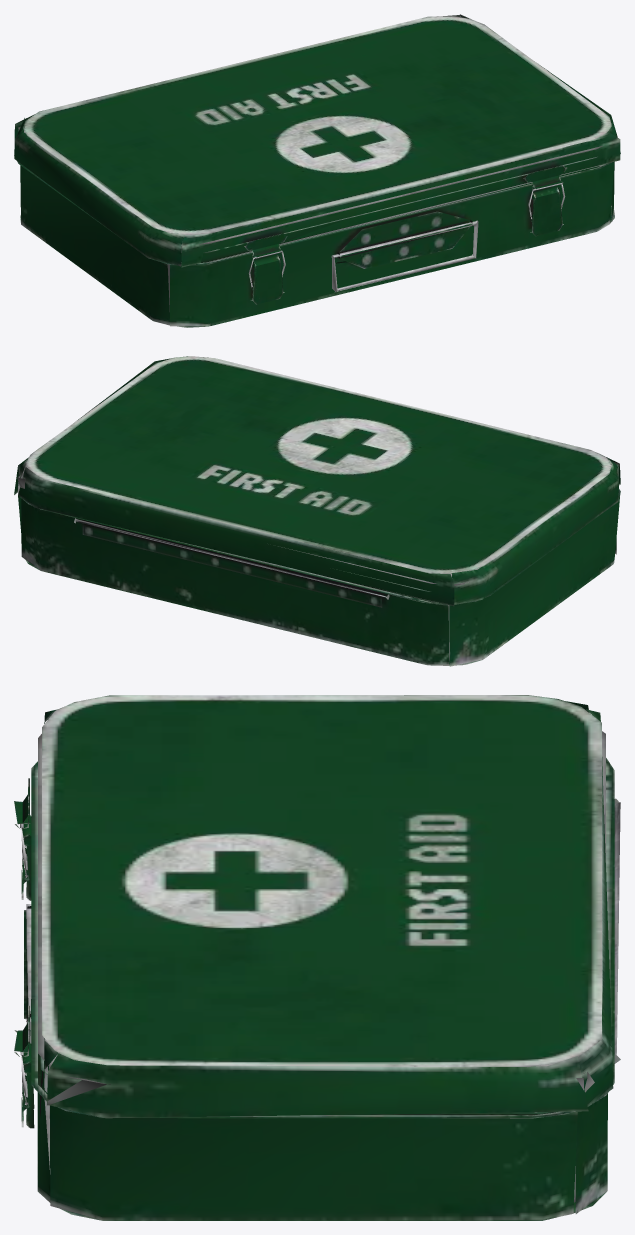
Rendered from medical_box.glb.
3 renders of one model, top to bottom at view 1: azimuth 30°, elevation 25°; view 2: azimuth 150°, elevation 25°; view 3: azimuth 270°, elevation 25°, orthographic. The views are drawn at different scales.
Parts seen in each view (by area): view 1: medical_box_lid, medical_box, medical_box_latch, medical_box_handle; view 2: medical_box_lid, medical_box; view 3: medical_box_lid, medical_box, medical_box_latch.
Boxes of the visible parts, x1,y1,x2,y2 form: medical_box_lid: (14,14,620,267); medical_box: (20,156,614,327); medical_box_latch: (251,187,563,304); medical_box_handle: (331,220,478,292); medical_box_lid: (14,356,620,606); medical_box: (18,495,619,666); medical_box_lid: (14,695,614,1118); medical_box: (24,798,620,1220); medical_box_latch: (21,815,31,1127).
Bounding box in the file's own units: 0.5248 × 0.0994 × 0.3509.
Materials: 1 (1 with a texture image).
